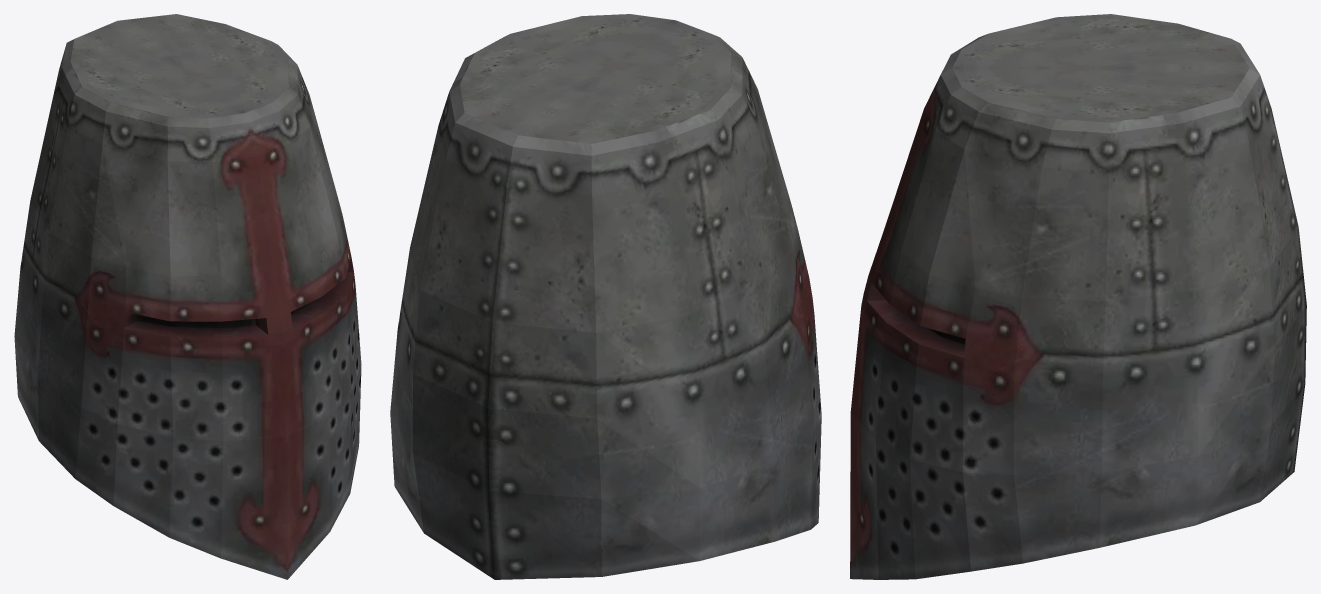
File: ITAR_ZPZ_HELMET_02.glb
The picture shows the model from 3 angles, left to right: view 1: azimuth 30°, elevation 25°; view 2: azimuth 150°, elevation 25°; view 3: azimuth 270°, elevation 25°; orthographic projection. The views are drawn at different scales.
Visible parts, largest first — view 1: ITAR_ZPZ_HELMET_02; view 2: ITAR_ZPZ_HELMET_02; view 3: ITAR_ZPZ_HELMET_02.
Part boxes in pixels (left/top/right/bottom): ITAR_ZPZ_HELMET_02: left=14, top=14, right=361, bottom=579; ITAR_ZPZ_HELMET_02: left=390, top=14, right=821, bottom=579; ITAR_ZPZ_HELMET_02: left=850, top=14, right=1306, bottom=579.
Size of the model in its own units: 0.2522 by 0.3669 by 0.2972.
1 material, 1 textured.
